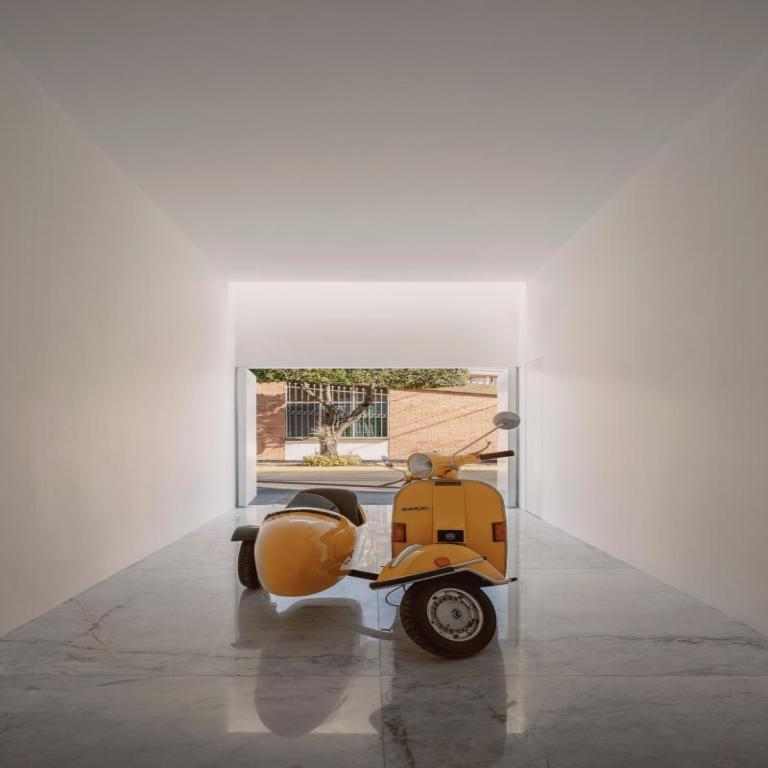white-walls: (29, 35, 734, 554)
